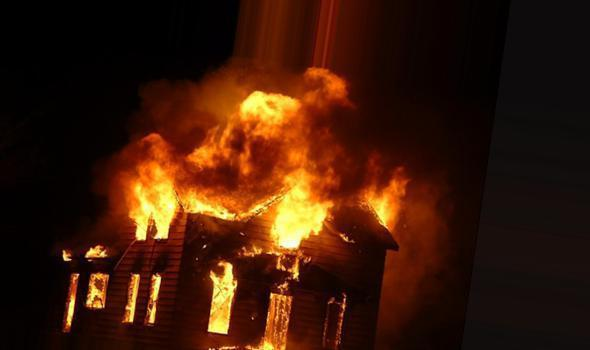fire: (113, 56, 396, 340), (54, 242, 114, 330)
